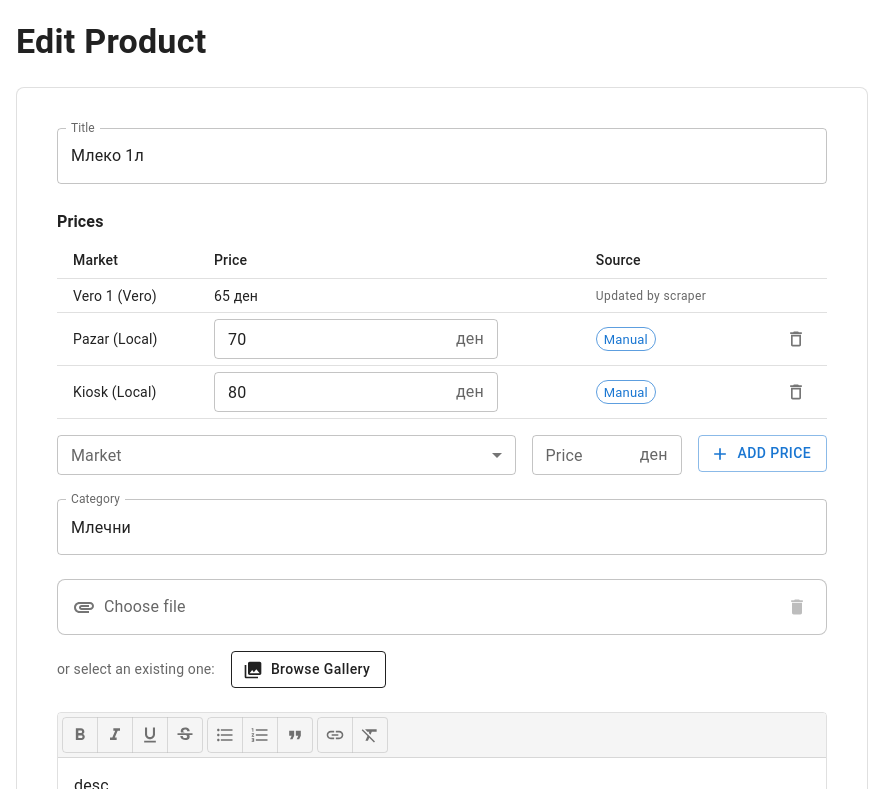
Test case: AddOrEditProductForm price editing › blocks saving a non-positive price
Replace the text in the number field named "Price at Pazar (Local)" with "0" at (331, 340), box [214,320,448,360]
(page scrolled)
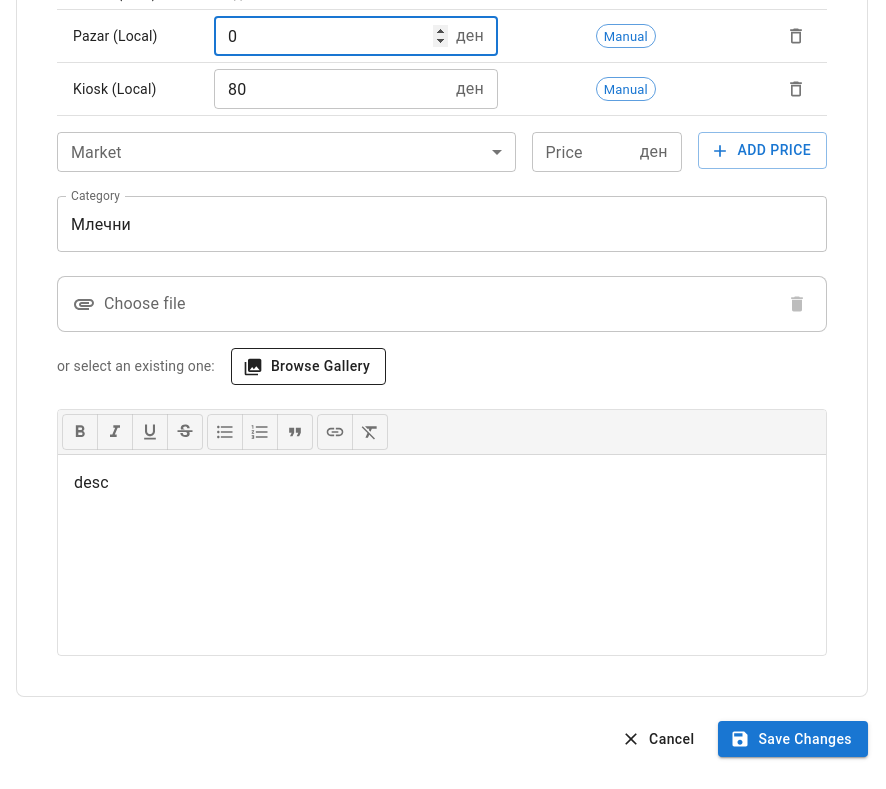
Click the button "Save Changes" at (793, 739), box [718,721,868,758]
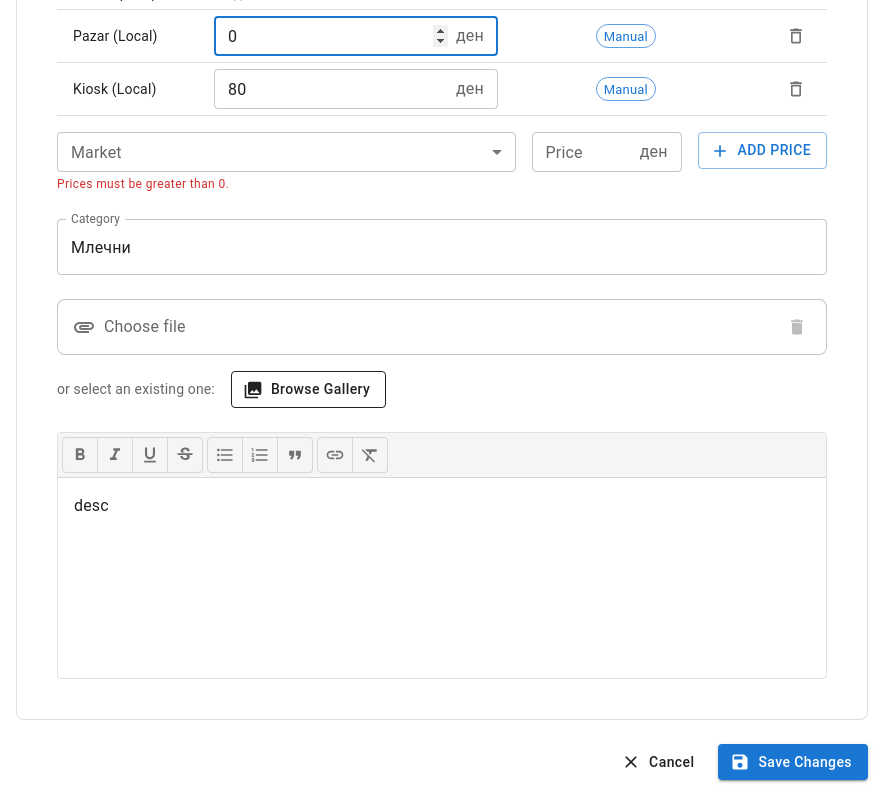
Check: the text "Prices must be greater than 0." is shown, box [57,178,229,192]
